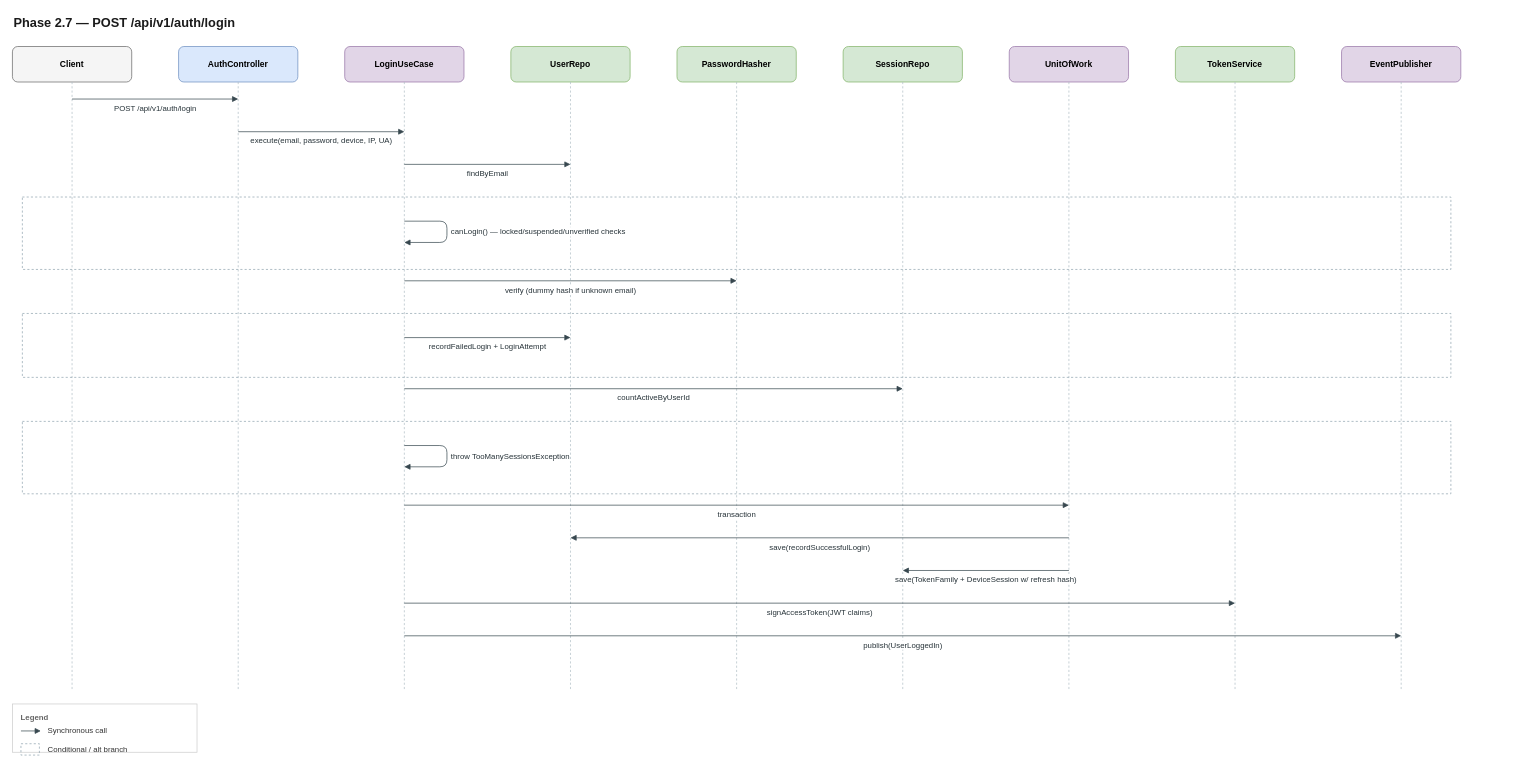
The diagram is 1520 pixels wide and 768 high, and some of its shapes have lost their labels. Here are the shapes that lost their labels. From the top down, the box of each, then its label:
(22, 196, 1451, 269): alt user exists
(22, 313, 1451, 377): alt invalid credentials
(22, 421, 1451, 494): alt session cap reached
